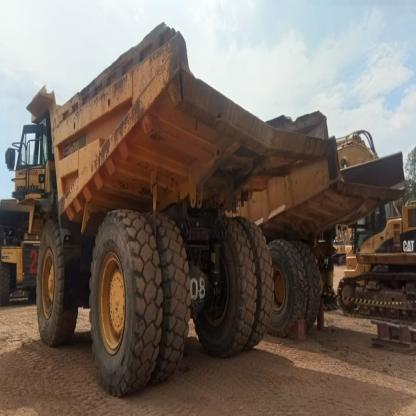dump_truck: (22, 23, 272, 370)
